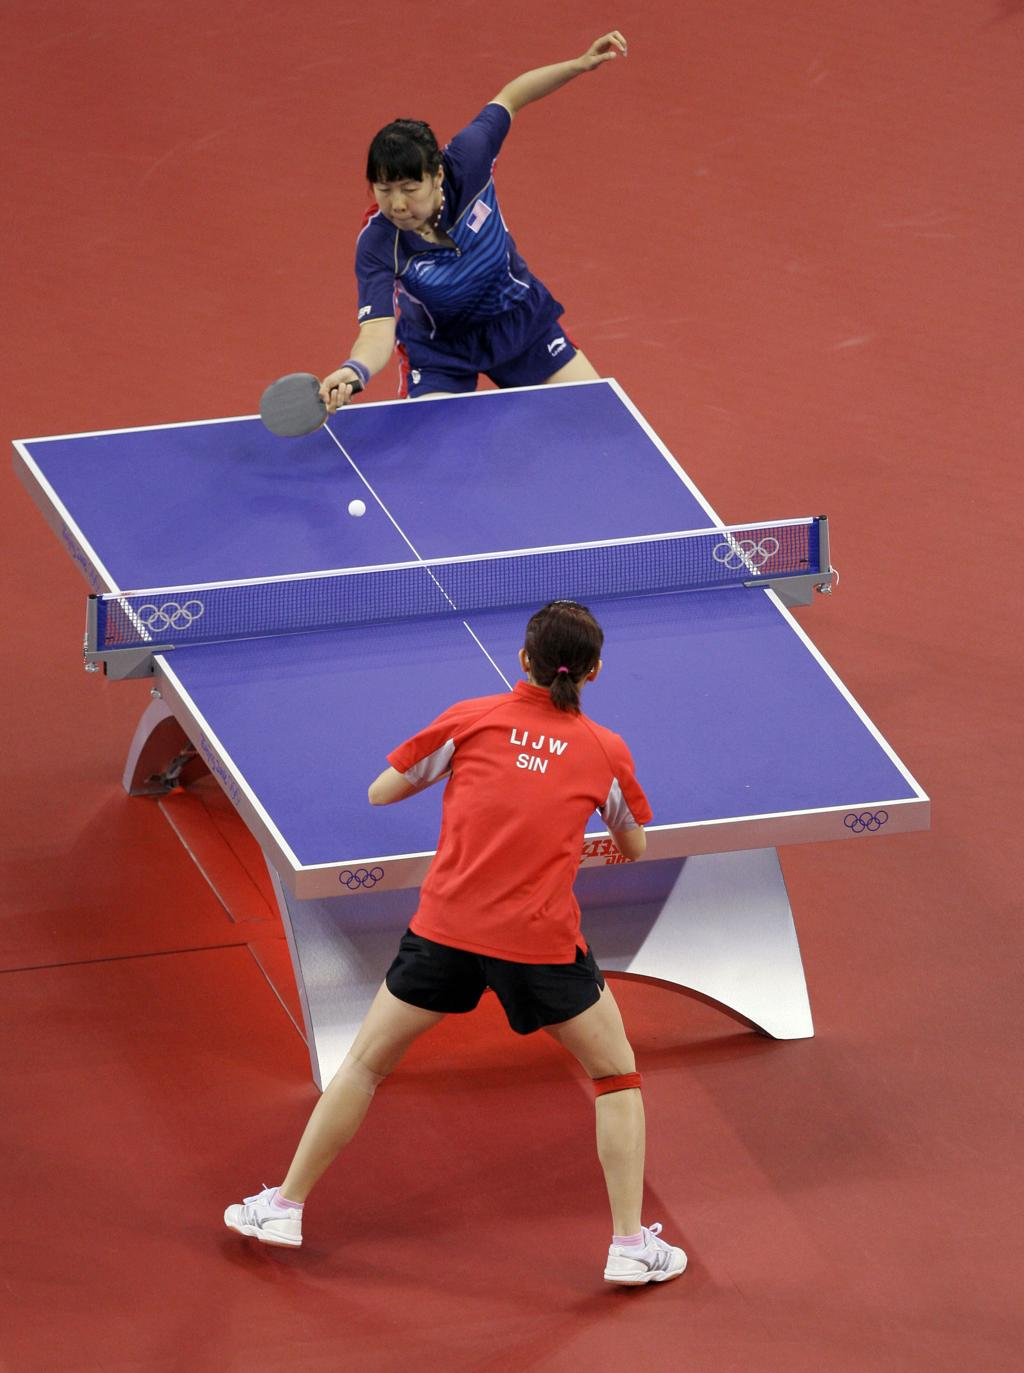face: (370, 147, 432, 235)
